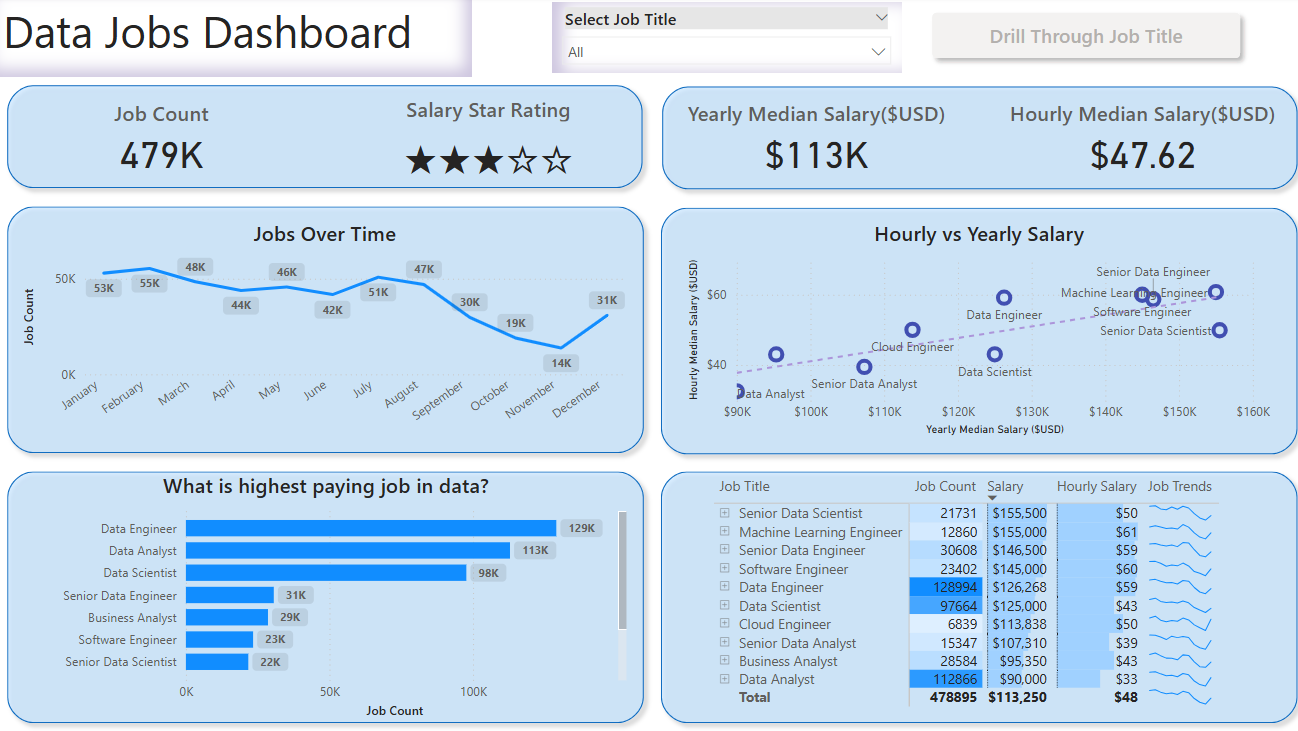

Layout of this report page (visuals, bound fields, positions):
{"tool":"powerbi","page":{"name":"Data Jobs Dashboard","canvas":[1280,720],"ordinal":0},"visuals":[{"type":"group","id":"g1","title":"Background Shapes","box":[0,78.3,1280.3,642],"z":0},{"type":"shape","box":[0,78.3,639.5,118.6],"z":0,"group":"g1"},{"type":"cardVisual","fields":{"Data":["Median(job_postings_flat.salary_year_avg)"]},"box":[640.2,79.5,320.1,117.4],"z":0,"group":"g2"},{"type":"textbox","box":[0,0,463.9,79.5],"z":1000,"group":"g3"},{"type":"shape","box":[640.8,79.5,639.5,118.6],"z":1000,"group":"g1"},{"type":"cardVisual","fields":{"Data":["Median(job_postings_flat.salary_hour_avg)"]},"box":[960.2,79.5,320.1,117.4],"z":1000,"group":"g2"},{"type":"lineChart","title":"Jobs Over Time","fields":{"Category":["job_postings_flat.job_posted_date.Variation.Date Hierarchy.Year","job_postings_flat.job_posted_date.Variation.Date Hierarchy.Quarter","job_postings_flat.job_posted_date.Variation.Date Hierarchy.Month","job_postings_flat.job_posted_date.Variation.Date Hierarchy.Day"],"Y":["CountNonNull(job_postings_flat.job_title_short)"]},"box":[20.8,217.7,598,217.7],"z":1000},{"type":"cardVisual","fields":{"Data":["job_postings_flat.Median of salary_year_avg star rating"]},"box":[320.5,79.5,319.2,118.6],"z":2000,"group":"g2"},{"type":"shape","box":[0,196.9,640.8,259.2],"z":2000,"group":"g1"},{"type":"barChart","title":"What is highest paying job in data?","fields":{"Category":["job_postings_flat.job_title_short"],"Y":["CountNonNull(job_postings_flat.job_title_short)"]},"box":[22,464.7,598,247],"z":2000},{"type":"slicer","fields":{"Values":["job_postings_flat.job_title_short"]},"box":[541.5,5.5,342,68.5],"z":3000,"group":"g3"},{"type":"group","id":"g2","title":"Cards Group","box":[0,79.5,1280.3,118.6],"z":3000},{"type":"cardVisual","fields":{"Data":["CountNonNull(job_postings_flat.job_title_short)"]},"box":[0,79.5,320.1,117.4],"z":3000,"group":"g2"},{"type":"shape","box":[0,456.2,640.8,264.1],"z":3000,"group":"g1"},{"type":"shape","box":[639.5,198.1,640.8,259.2],"z":4000,"group":"g1"},{"type":"scatterChart","title":"Hourly vs Yearly Salary","fields":{"Y":["Median(job_postings_flat.salary_hour_avg)"],"X":["Median(job_postings_flat.salary_year_avg)"],"Series":["job_postings_flat.job_title_short"]},"box":[670.1,217.7,579.6,217.7],"z":4000},{"type":"shape","box":[639.5,456.2,640.8,264.1],"z":5000,"group":"g1"},{"type":"pivotTable","fields":{"Rows":["job_postings_flat.job_title_short","job_postings_flat.job_posted_date.Variation.Date Hierarchy.Quarter"],"Values":["CountNonNull(job_postings_flat.job_title_short)","Median(job_postings_flat.salary_year_avg)","Median(job_postings_flat.salary_hour_avg)","SparklineData(CountNonNull(job_postings_flat.job_title_short)_[job_postings_flat.job_posted_date.Variation.Date Hierarch"]},"box":[695.8,464.7,528.3,247],"z":5000},{"type":"group","id":"g3","title":"Page Top ","box":[0,0,1224.1,79.5],"z":6000},{"type":"actionButton","box":[904.9,7.7,319.2,62.4],"z":7001,"group":"g3"}]}

Visuals, with their boxes in screenshot pixels (x1, y1, x2, y2), scaled from the page's 1280x720 canvas onto the 1298x731 screenshot:
"Background Shapes" group: {"left": 0, "top": 79, "right": 1297, "bottom": 730}
shape: {"left": 0, "top": 79, "right": 648, "bottom": 200}
cardVisual - Median(job_postings_flat.salary_year_avg): {"left": 649, "top": 81, "right": 974, "bottom": 200}
textbox: {"left": 0, "top": 0, "right": 470, "bottom": 81}
shape: {"left": 650, "top": 81, "right": 1297, "bottom": 201}
cardVisual - Median(job_postings_flat.salary_hour_avg): {"left": 974, "top": 81, "right": 1297, "bottom": 200}
"Jobs Over Time" lineChart: {"left": 21, "top": 221, "right": 628, "bottom": 442}
cardVisual - job_postings_flat.Median of salary_year_avg star rating: {"left": 325, "top": 81, "right": 649, "bottom": 201}
shape: {"left": 0, "top": 200, "right": 650, "bottom": 463}
"What is highest paying job in data?" barChart: {"left": 22, "top": 472, "right": 629, "bottom": 723}
slicer - job_postings_flat.job_title_short: {"left": 549, "top": 6, "right": 896, "bottom": 75}
"Cards Group" group: {"left": 0, "top": 81, "right": 1297, "bottom": 201}
cardVisual - CountNonNull(job_postings_flat.job_title_short): {"left": 0, "top": 81, "right": 325, "bottom": 200}
shape: {"left": 0, "top": 463, "right": 650, "bottom": 730}
shape: {"left": 648, "top": 201, "right": 1297, "bottom": 464}
"Hourly vs Yearly Salary" scatterChart: {"left": 680, "top": 221, "right": 1267, "bottom": 442}
shape: {"left": 648, "top": 463, "right": 1297, "bottom": 730}
pivotTable - job_postings_flat.job_title_short x job_postings_flat.job_posted_date.Variation.Date Hierarchy.Quarter: {"left": 706, "top": 472, "right": 1241, "bottom": 723}
"Page Top " group: {"left": 0, "top": 0, "right": 1241, "bottom": 81}
actionButton: {"left": 918, "top": 8, "right": 1241, "bottom": 71}
